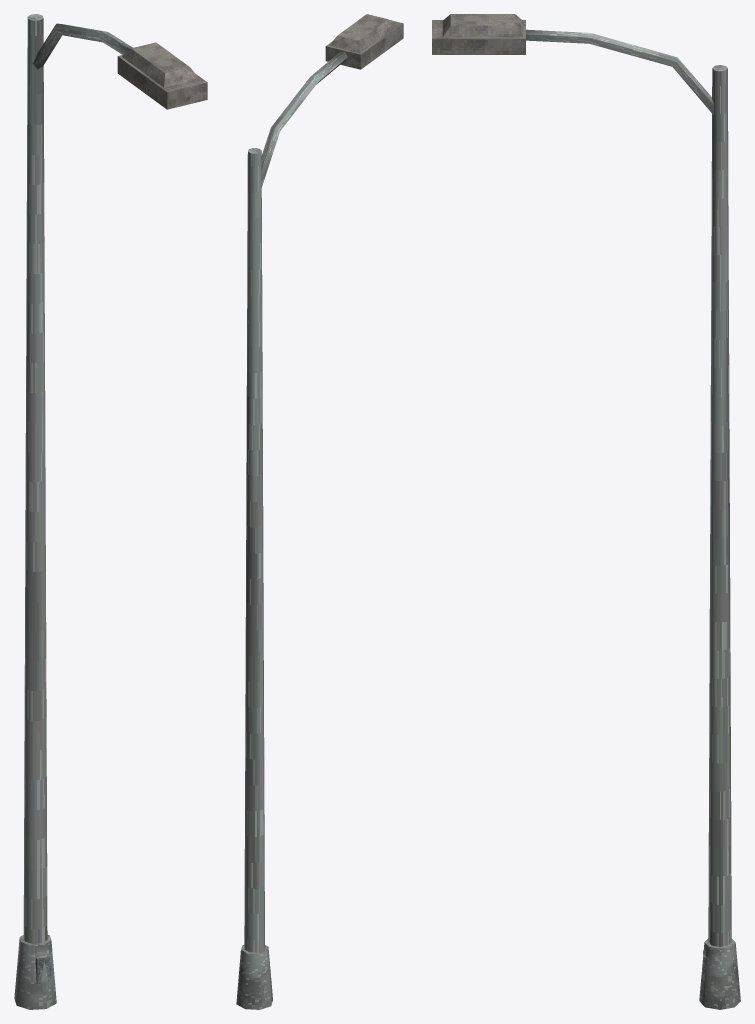
File: lamp_cobra.glb
3 renders of one model, left to right at view 1: azimuth 30°, elevation 25°; view 2: azimuth 150°, elevation 25°; view 3: azimuth 270°, elevation 25°, orthographic. The views are drawn at different scales.
Visible parts, largest first — view 1: lamp_cobra; view 2: lamp_cobra; view 3: lamp_cobra.
Part boxes in pixels (bbox=[...]): lamp_cobra: bbox=[14, 14, 207, 1009]; lamp_cobra: bbox=[236, 14, 403, 1009]; lamp_cobra: bbox=[432, 14, 740, 1009].
Size of the model in its own units: 0.34 by 8.31 by 2.37.
Materials: 2 (2 with a texture image).
